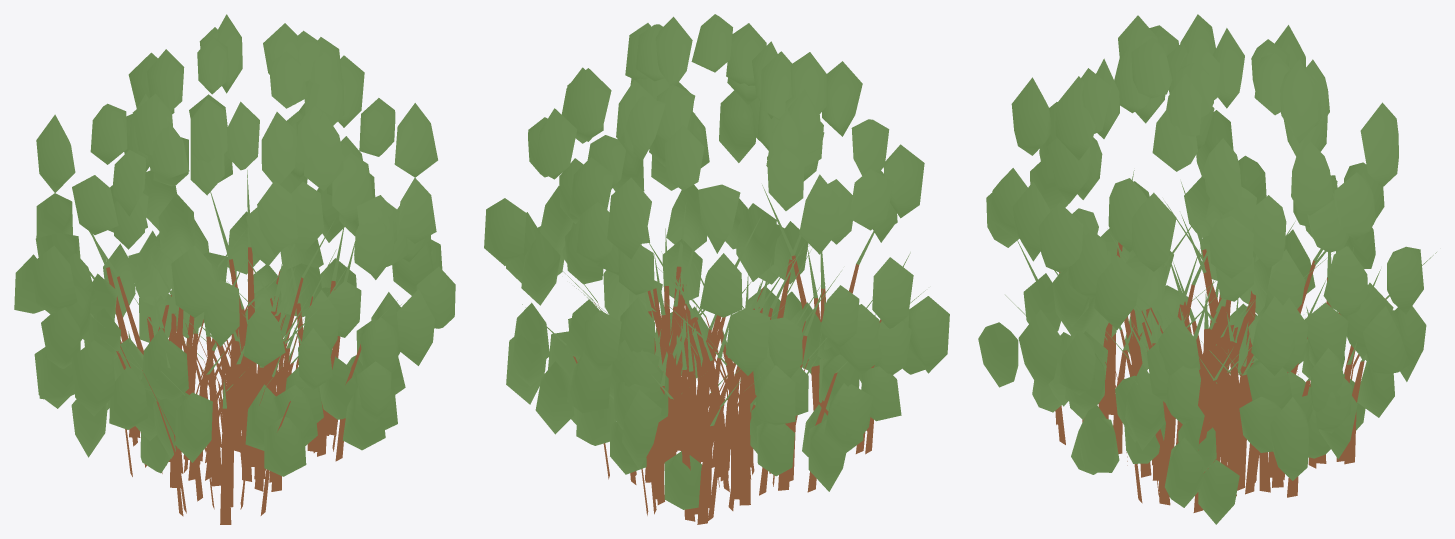
File: Blender_WillowThicket_1.glb
3 renders of one model, left to right at view 1: azimuth 30°, elevation 25°; view 2: azimuth 150°, elevation 25°; view 3: azimuth 270°, elevation 25°, orthographic. The views are drawn at different scales.
Visible parts, largest first — view 1: Blender_WillowThicket_1; view 2: Blender_WillowThicket_1; view 3: Blender_WillowThicket_1.
Part boxes in pixels (x1,y1,x2,y2): Blender_WillowThicket_1: [14, 14, 455, 524]; Blender_WillowThicket_1: [484, 14, 949, 524]; Blender_WillowThicket_1: [978, 14, 1436, 524].
Bounding box in the file's own units: 2.73 × 2.85 × 2.66.
